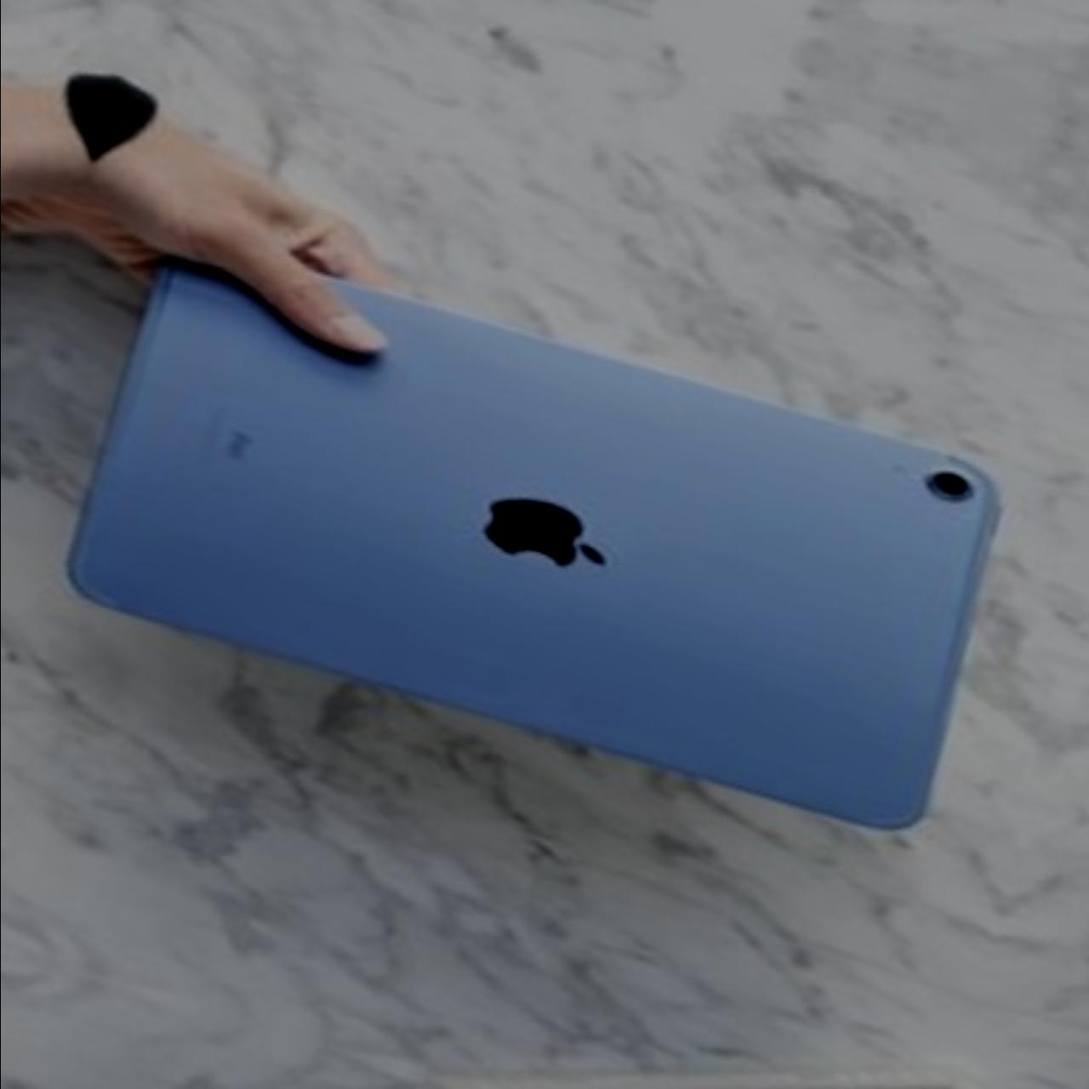Tablet_PC: (35, 196, 1035, 884)
